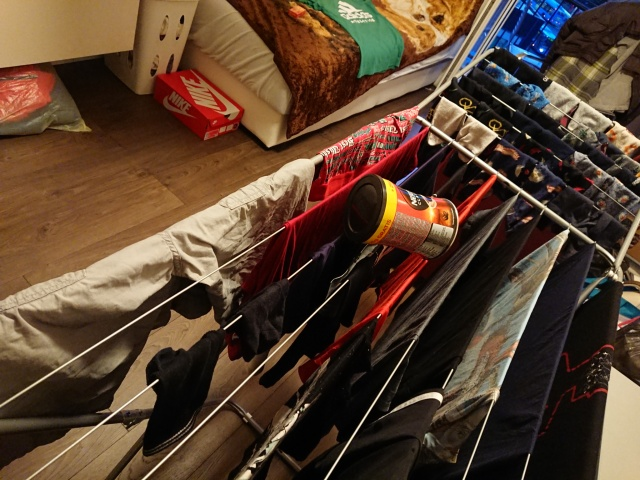Nescafe Classic 225g: (341, 171, 461, 264)
